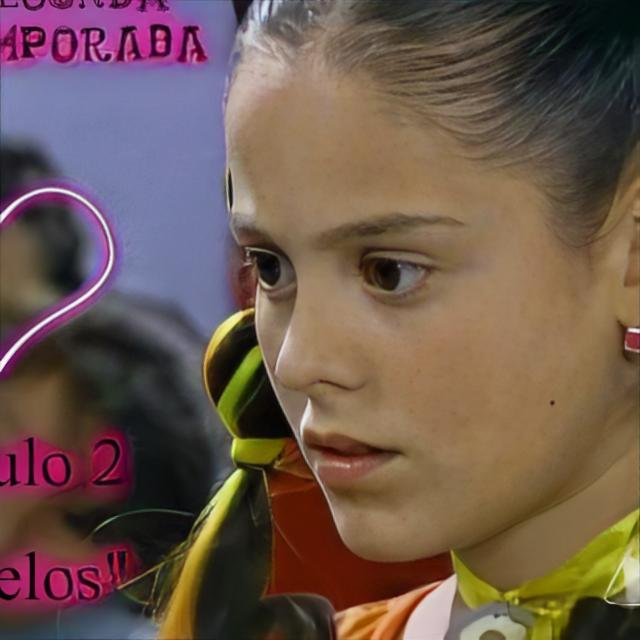neutral: (222, 37, 614, 566)
